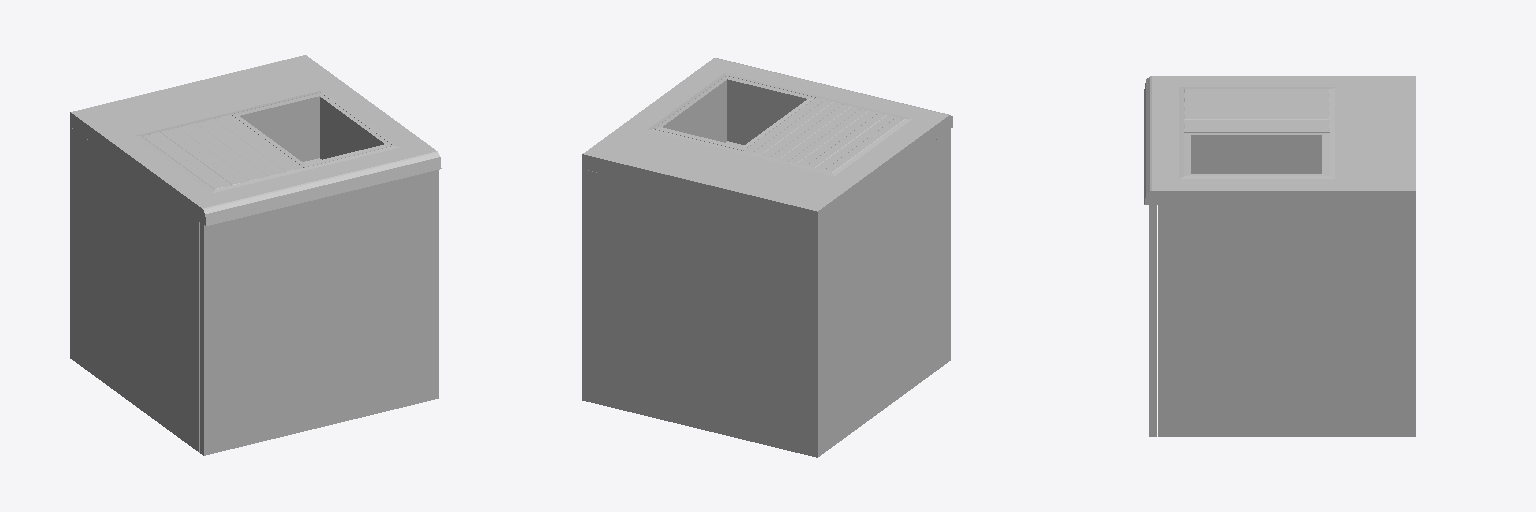
The model's file is sink.obj.
3 renders of one model, left to right at view 1: azimuth 30°, elevation 25°; view 2: azimuth 150°, elevation 25°; view 3: azimuth 270°, elevation 25°, orthographic.
Size of the model in its own units: 1 by 1 by 1.